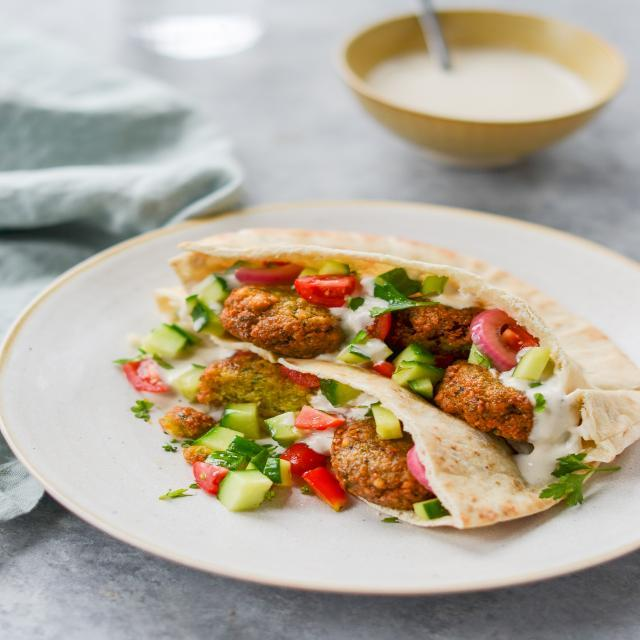flafel: (334, 416, 429, 515), (225, 283, 341, 361), (439, 363, 533, 440)
